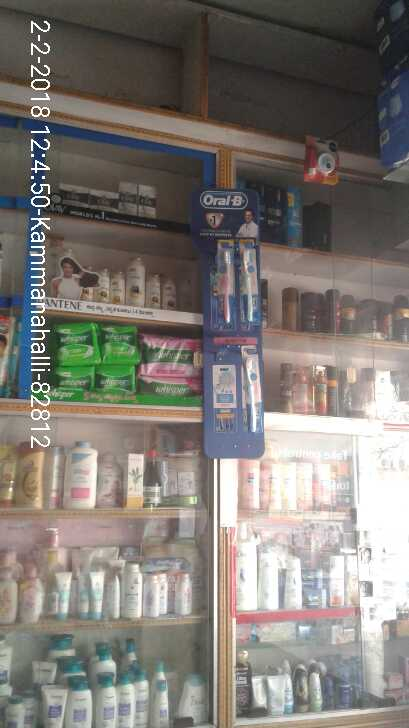beauty: (88, 259, 181, 309), (56, 178, 116, 216), (111, 180, 155, 221)
pharmacy: (51, 311, 106, 370), (140, 333, 205, 374), (96, 322, 144, 371), (212, 246, 237, 325), (243, 343, 262, 434), (135, 372, 207, 396), (238, 249, 259, 328), (91, 372, 135, 396), (57, 364, 88, 396)
